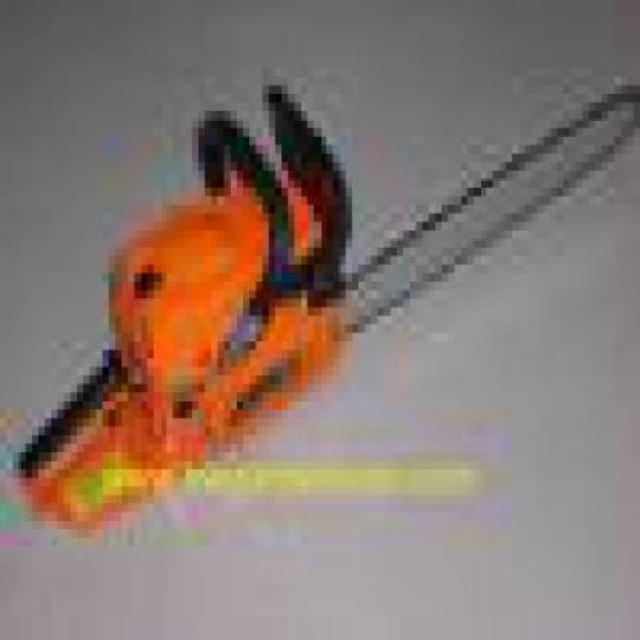Chainsaw: (6, 82, 640, 543)
